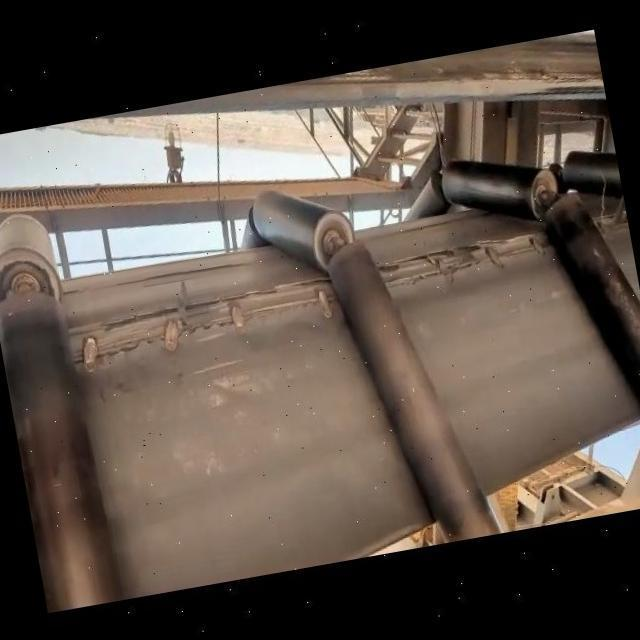Tear: (59, 268, 348, 374), (374, 222, 552, 294)
